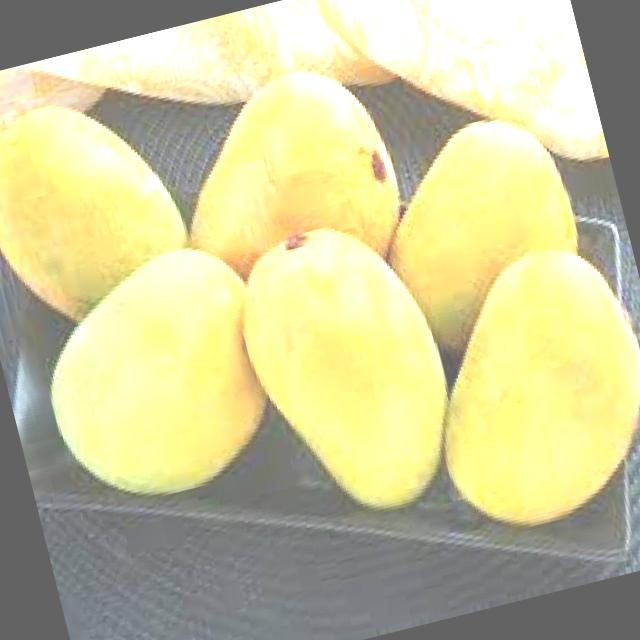Mango: (220, 204, 472, 532), (397, 227, 640, 543), (20, 233, 289, 516), (155, 51, 413, 302), (359, 100, 599, 366), (0, 77, 202, 338)
